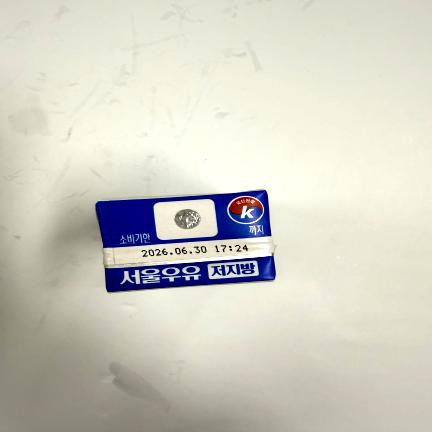milk_blue: (100, 189, 276, 295)
